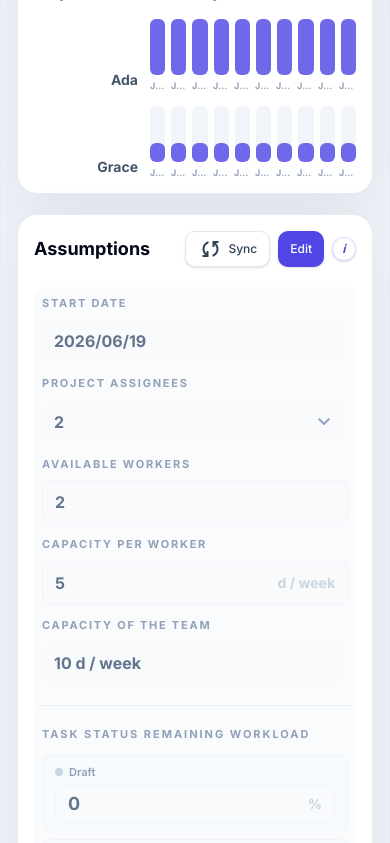
ForecastDashboard loading state › shows all unique project assignees in the assignee dropdown
The image size is (390, 843).
(page scrolled)
Expected: the number field labelled "Available Workers" holds "2", [55,490,335,514]
Click the button named "Project assignees".
click(59, 422)  # box [42,400,348,444]
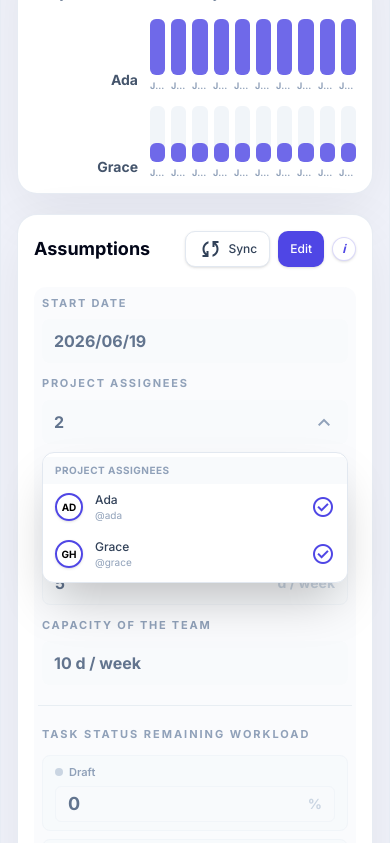
Expected: the 2nd text "Ada" is shown, [95,492,118,507]
Expected: the text "@ada" is shown, [95,509,122,521]
Expected: the text "Grace" next to "GH" is shown, [95,539,129,554]
